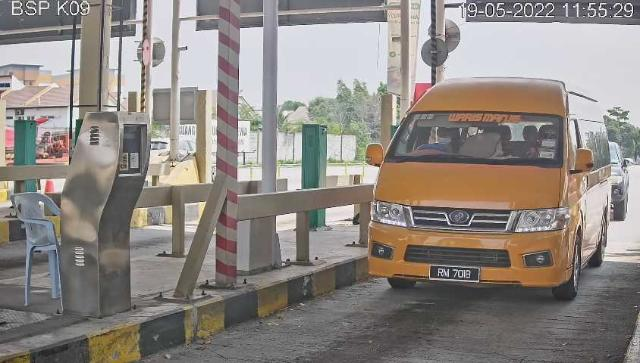License_Plate: (429, 266, 482, 287)
van: (368, 78, 613, 304)
